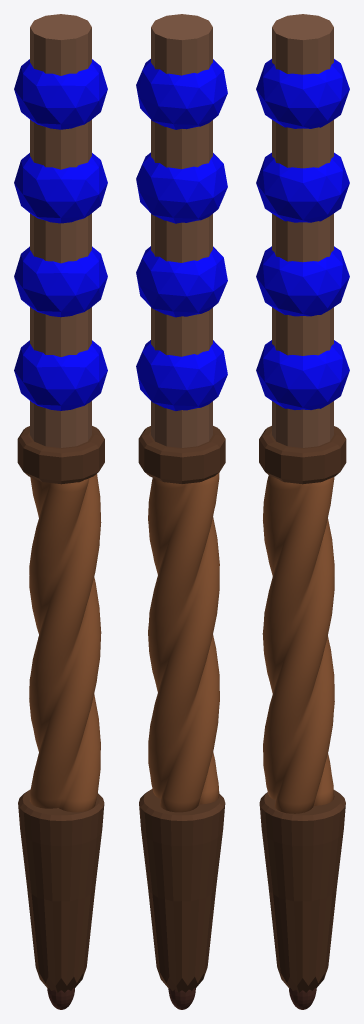
Rendered from Wand 836.glb.
3 views of the same model, side by side, from view 1: azimuth 90°, elevation 25°; view 2: azimuth 150°, elevation 25°; view 3: azimuth 270°, elevation 25° (orthographic).
Visible parts, largest first — view 1: GeneratedWand; view 2: GeneratedWand; view 3: GeneratedWand.
Boxes of the visible parts, left/top/right/bottom form: GeneratedWand: left=14, top=14, right=107, bottom=1009; GeneratedWand: left=136, top=14, right=227, bottom=1009; GeneratedWand: left=256, top=14, right=349, bottom=1009.
Bounding box in the file's own units: 0.0407 × 0.4942 × 0.0428.
